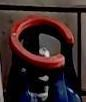cylinder: (1, 0, 86, 102)
